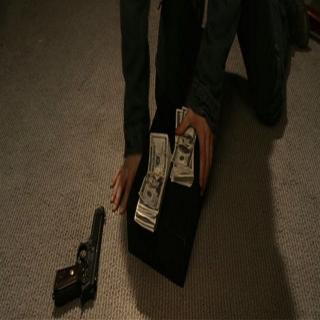gun: (44, 188, 110, 311)
